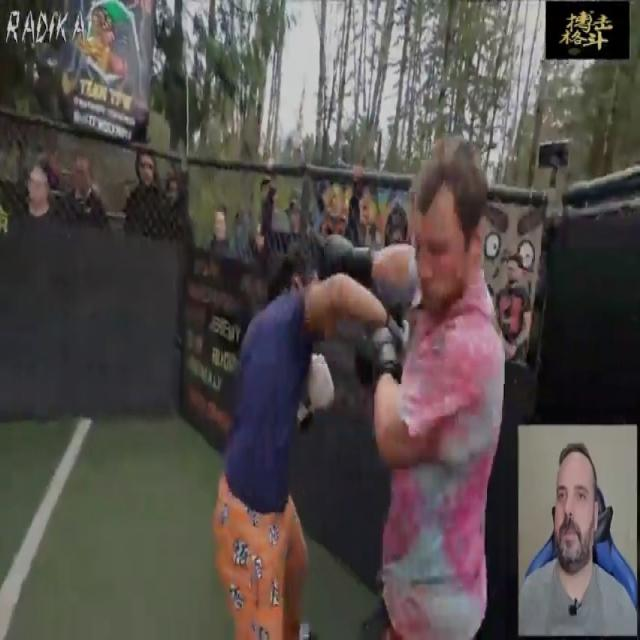fight: (162, 128, 522, 639)
